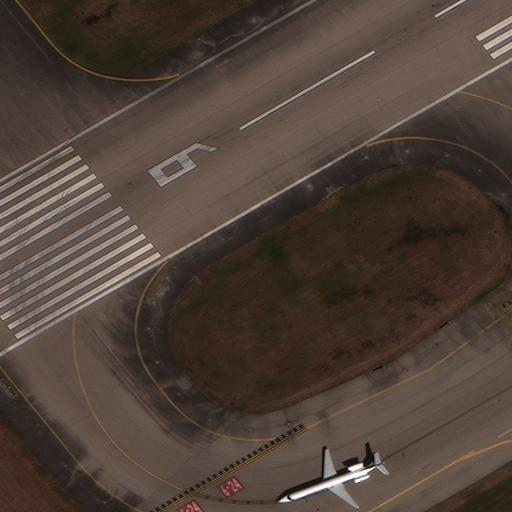Medium Civil Transport: (279, 448, 384, 507)
